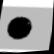correct: (2, 12, 35, 44)
